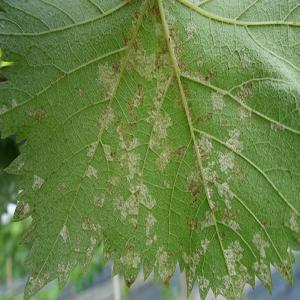Folha: (0, 0, 299, 298)
Fungo: (200, 160, 245, 235), (126, 34, 186, 82), (140, 84, 178, 141), (220, 239, 251, 298), (181, 234, 212, 288), (112, 187, 156, 223), (216, 127, 244, 174), (133, 0, 175, 31), (23, 262, 50, 299), (155, 244, 178, 284), (118, 240, 144, 274), (276, 251, 298, 290), (252, 259, 276, 294), (56, 255, 80, 290), (116, 113, 138, 148), (174, 85, 195, 118), (95, 60, 115, 94), (186, 170, 202, 206), (82, 235, 95, 274), (230, 157, 248, 185), (101, 236, 116, 269), (251, 232, 270, 258), (155, 146, 173, 173), (225, 127, 243, 153), (217, 149, 235, 174), (126, 150, 141, 180), (30, 170, 48, 195), (197, 134, 213, 162), (173, 143, 190, 167), (27, 104, 47, 124), (98, 106, 114, 130), (236, 81, 253, 102), (210, 90, 226, 111), (237, 48, 252, 69), (132, 82, 144, 108), (101, 142, 117, 161), (144, 212, 156, 237), (15, 202, 30, 221), (236, 104, 252, 121), (194, 111, 212, 125), (204, 64, 218, 82), (185, 215, 199, 231), (85, 164, 98, 180), (185, 21, 197, 38), (82, 214, 94, 231), (288, 213, 298, 233), (86, 141, 97, 158), (270, 121, 284, 134), (92, 192, 104, 207), (60, 225, 68, 243), (76, 86, 84, 96)
